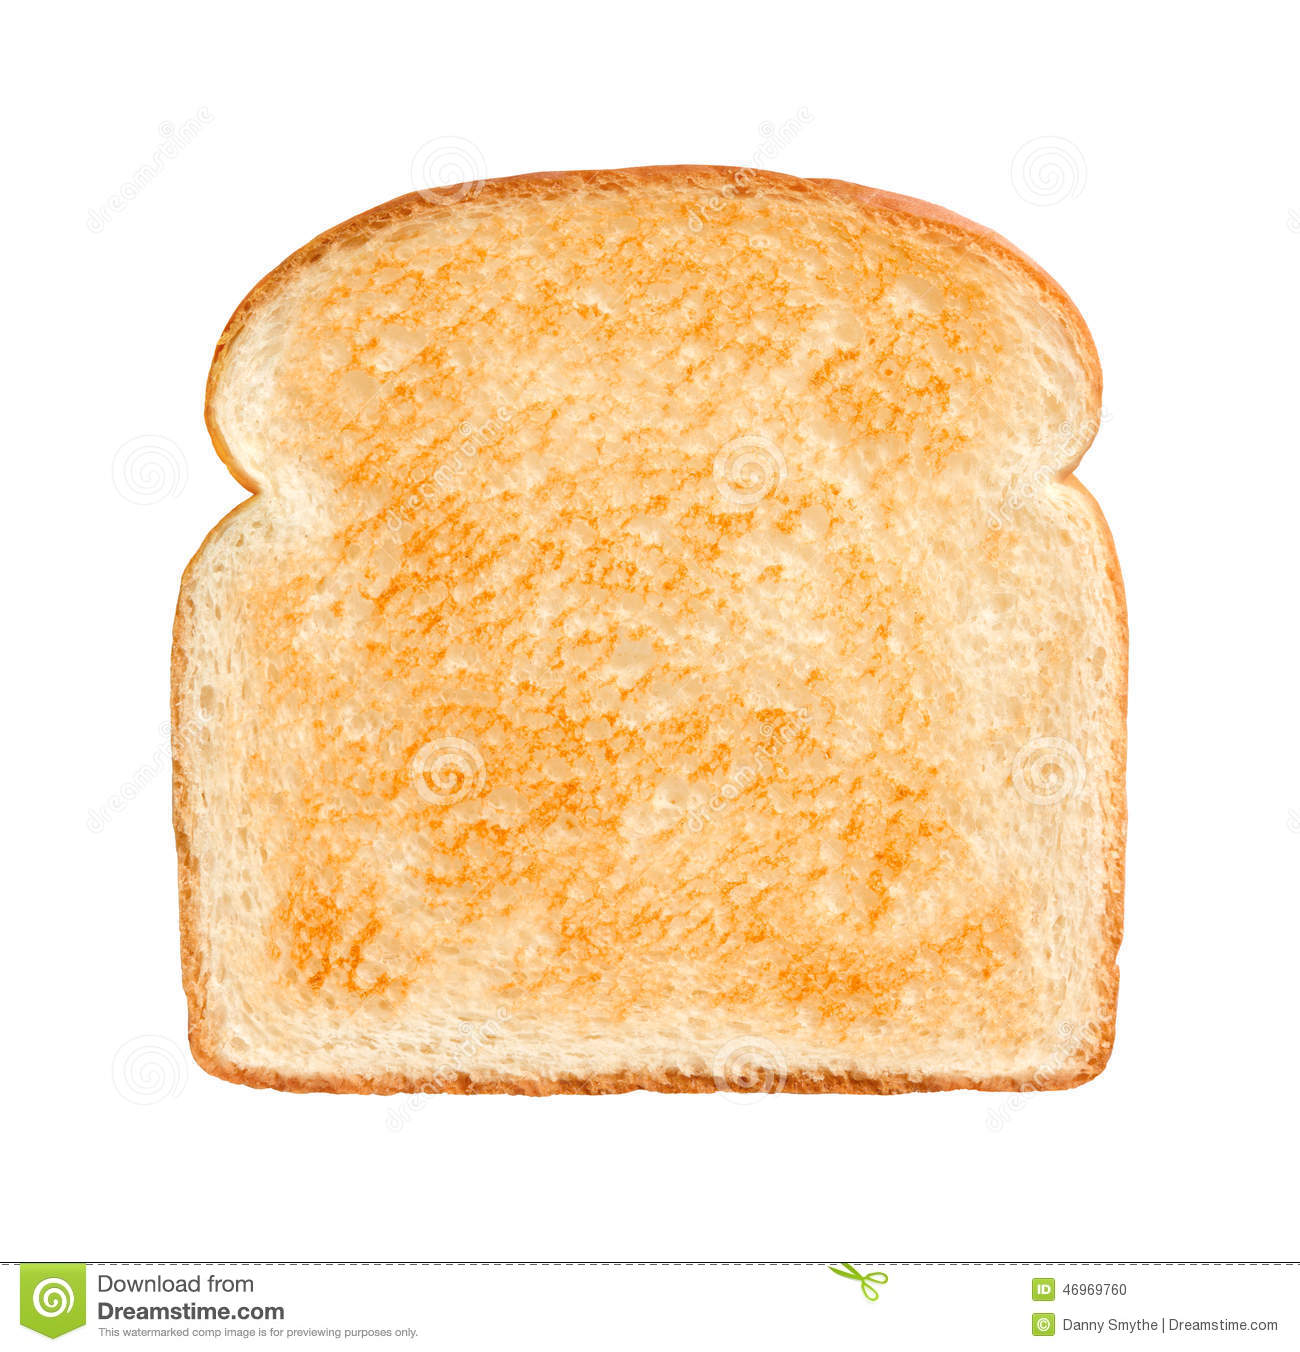slice of bread: (182, 194, 1115, 1082)
